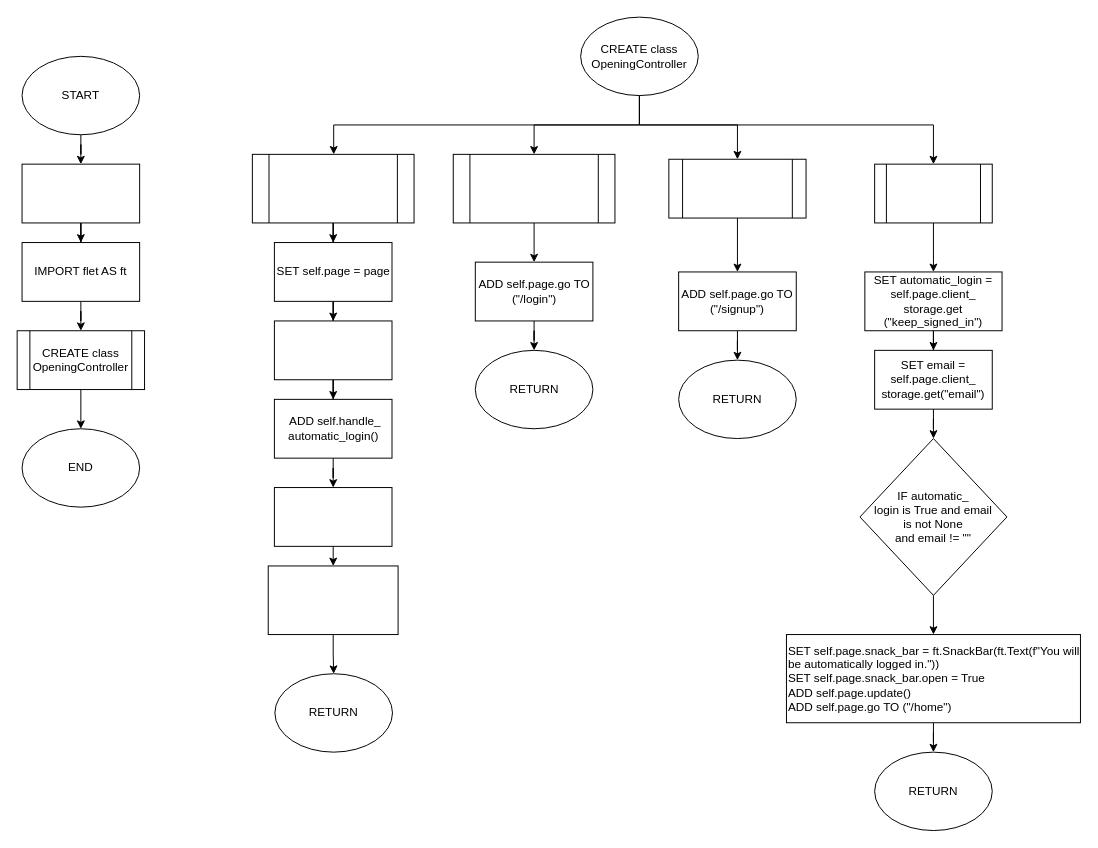
This 1098x848 diagram has some shape labels left out. The shapes that lost their labels are listed below. From the top down, each one's centre as x and y in pixels, then its label:
At pixel 80 193: "FROM views IMPORT OpeningPage".
At pixel 332 188: "MODULE __init__(self, page: ft.Page, opening_page: OpeningPage)".
At pixel 533 188: "MODULE login_clicked(self, event)".
At pixel 737 188: "MODULE signup_clicked(self, event)".
At pixel 933 193: "MODULE handle_automatic _login(self)".
At pixel 332 350: "SET self.opening_page = opening_page".
At pixel 332 516: "SET self.opening_page. login_button.on_click = self.login_clicked".
At pixel 332 600: "SET self.opening_page. signup_button.on_click = self.signup_clicked".
